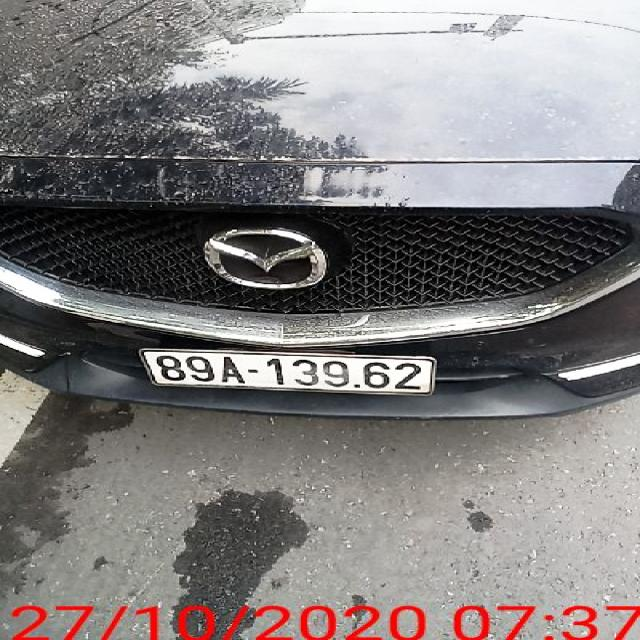license_plate: (148, 353, 435, 393)
